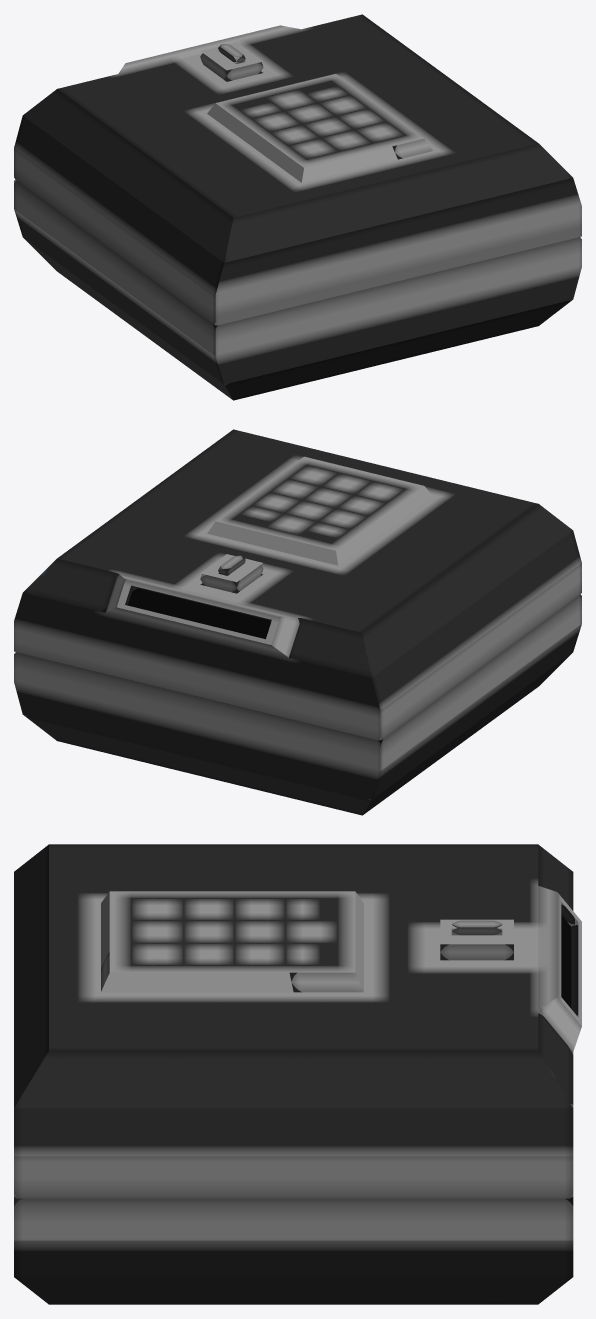
File: LockBoxNew2.fbx
3 renders of one model, top to bottom at view 1: azimuth 30°, elevation 25°; view 2: azimuth 150°, elevation 25°; view 3: azimuth 270°, elevation 25°, orthographic. The views are drawn at different scales.
Visible parts, largest first — view 1: Top, Bottom; view 2: Top, Bottom; view 3: Top, Bottom.
Boxes of the visible parts, x1=… form: Top: x1=14, y1=14, x2=581, y2=325; Bottom: x1=14, y1=179, x2=581, y2=400; Top: x1=14, y1=429, x2=581, y2=740; Bottom: x1=14, y1=594, x2=581, y2=815; Top: x1=14, y1=844, x2=581, y2=1198; Bottom: x1=14, y1=1009, x2=573, y2=1304.
Size of the model in its own units: 105 by 54.69 by 102.
1 material, 1 textured.
